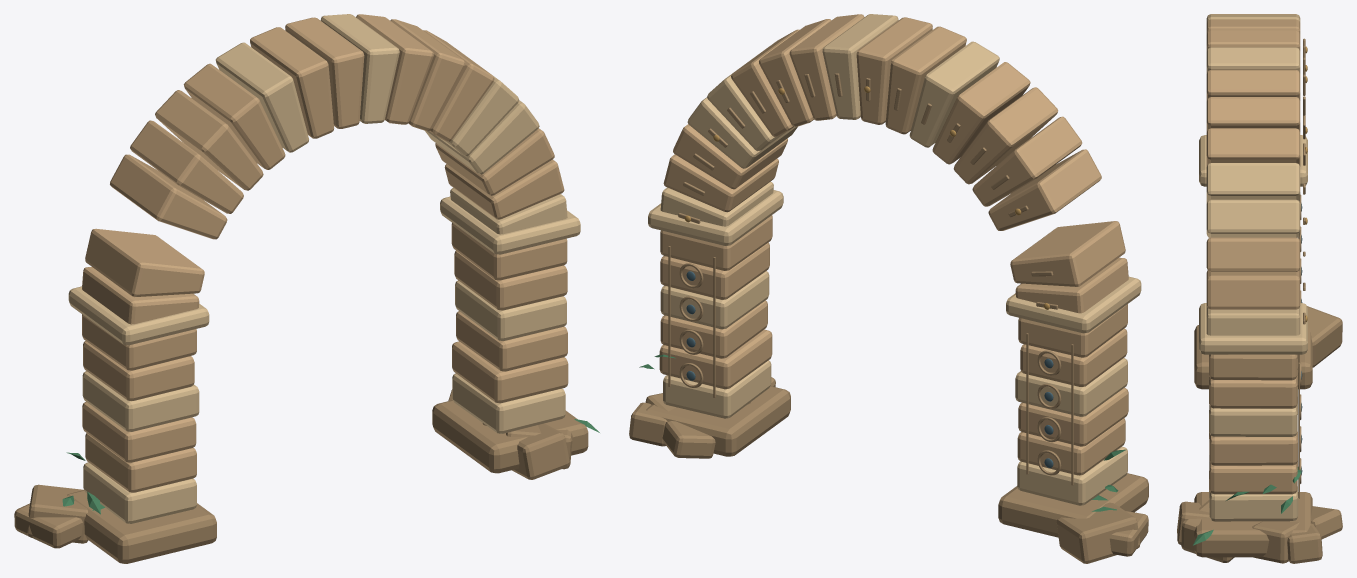
File: ruin-gate.glb
3 views of the same model, side by side, from view 1: azimuth 30°, elevation 25°; view 2: azimuth 150°, elevation 25°; view 3: azimuth 270°, elevation 25° (orthographic). The views are drawn at different scales.
Parts seen in each view (by area): view 1: ruin-gate__Warm sandstone, ruin-gate__Sandstone carved face, ruin-gate__Sandstone shadow; view 2: ruin-gate__Warm sandstone, ruin-gate__Sandstone carved face, ruin-gate__Sandstone shadow; view 3: ruin-gate__Warm sandstone, ruin-gate__Sandstone carved face, ruin-gate__Sandstone shadow, ruin-gate__Leaf emerald.
Part boxes in pixels (x1,y1,x2,y2): ruin-gate__Warm sandstone: [82, 14, 568, 492]; ruin-gate__Sandstone carved face: [68, 14, 580, 523]; ruin-gate__Sandstone shadow: [14, 389, 588, 563]; ruin-gate__Warm sandstone: [659, 14, 1128, 475]; ruin-gate__Sandstone carved face: [648, 14, 1141, 505]; ruin-gate__Sandstone shadow: [629, 73, 1148, 563]; ruin-gate__Warm sandstone: [1206, 14, 1300, 494]; ruin-gate__Sandstone carved face: [1199, 14, 1307, 521]; ruin-gate__Sandstone shadow: [1177, 38, 1342, 563]; ruin-gate__Leaf emerald: [1193, 467, 1301, 545].
Size of the model in its own units: 8.84 by 7.35 by 2.59.
